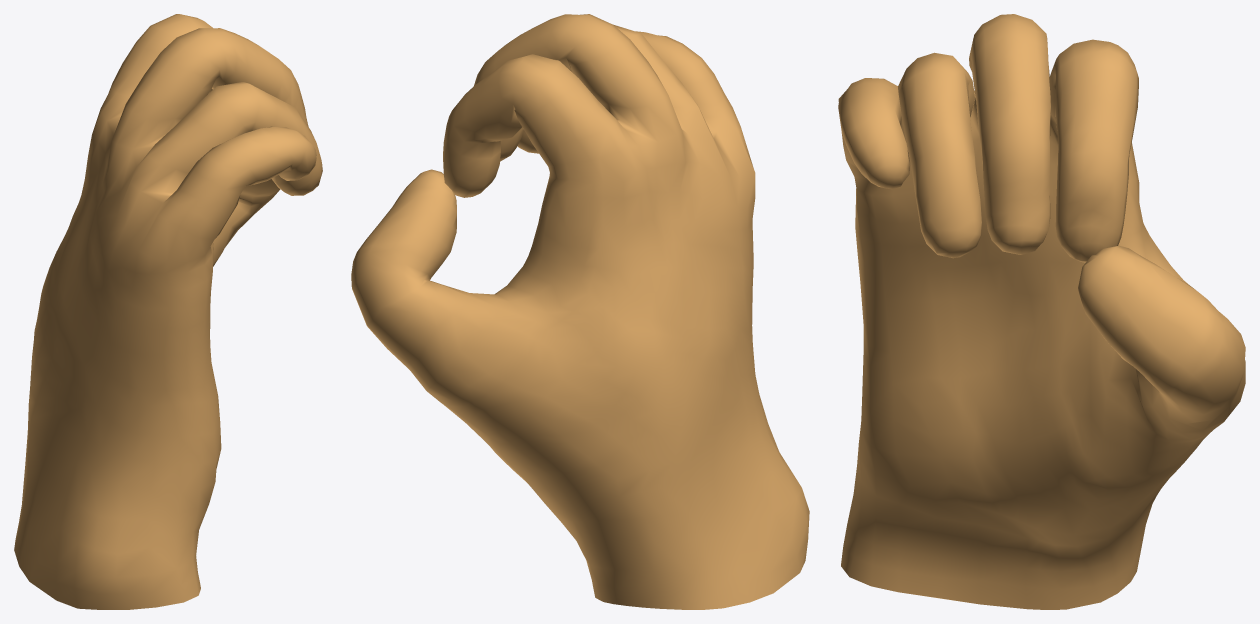
Rendered from LSM_Vocal_O.glb.
The picture shows the model from 3 angles, left to right: view 1: azimuth 30°, elevation 25°; view 2: azimuth 150°, elevation 25°; view 3: azimuth 270°, elevation 25°; orthographic projection. The views are drawn at different scales.
Visible parts, largest first — view 1: hand_L; view 2: hand_L; view 3: hand_L.
Part boxes in pixels (left/top/right/bottom): hand_L: left=14, top=14, right=322, bottom=609; hand_L: left=351, top=14, right=809, bottom=609; hand_L: left=838, top=14, right=1245, bottom=609.
Bounding box in the file's own units: 1.9 × 2.9 × 1.74.
